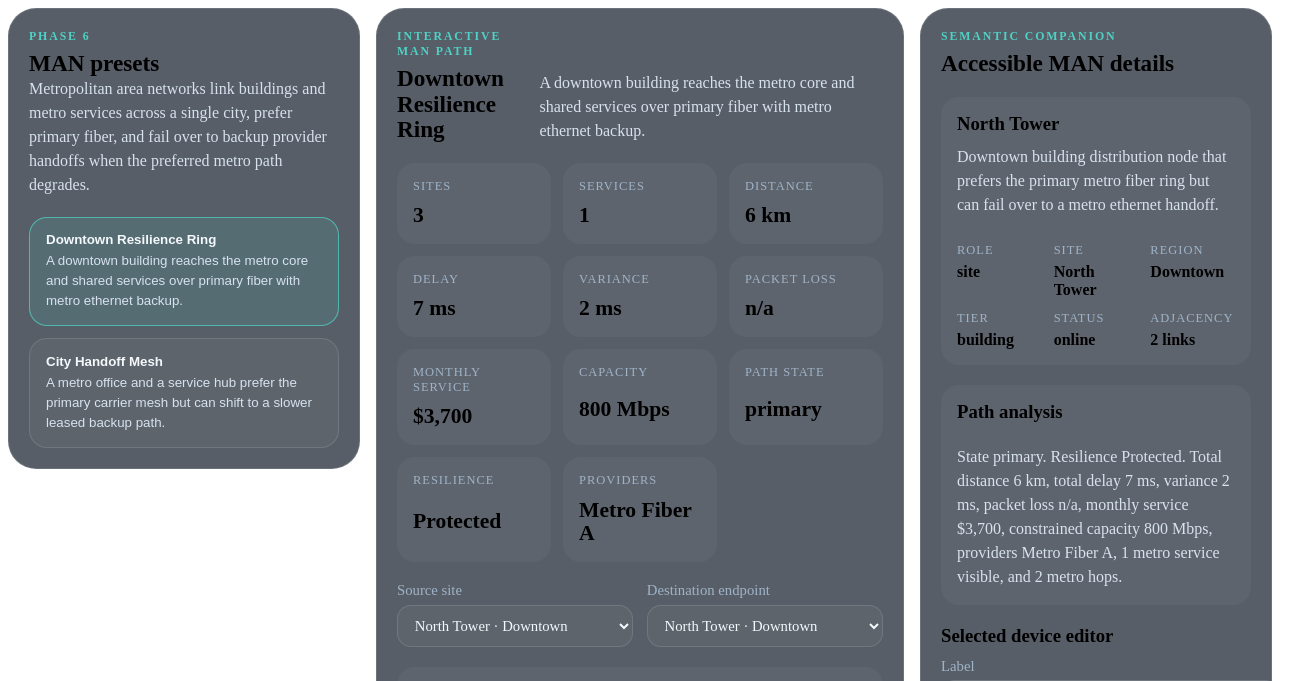
Test: ManPageComponent › focuses the selected destination endpoint in the MAN details panel
The image size is (1292, 681).
Select "Metro DC · Central Loop" in the dropdown labelled "Destination endpoint": (765, 626) [647,605,883,647]
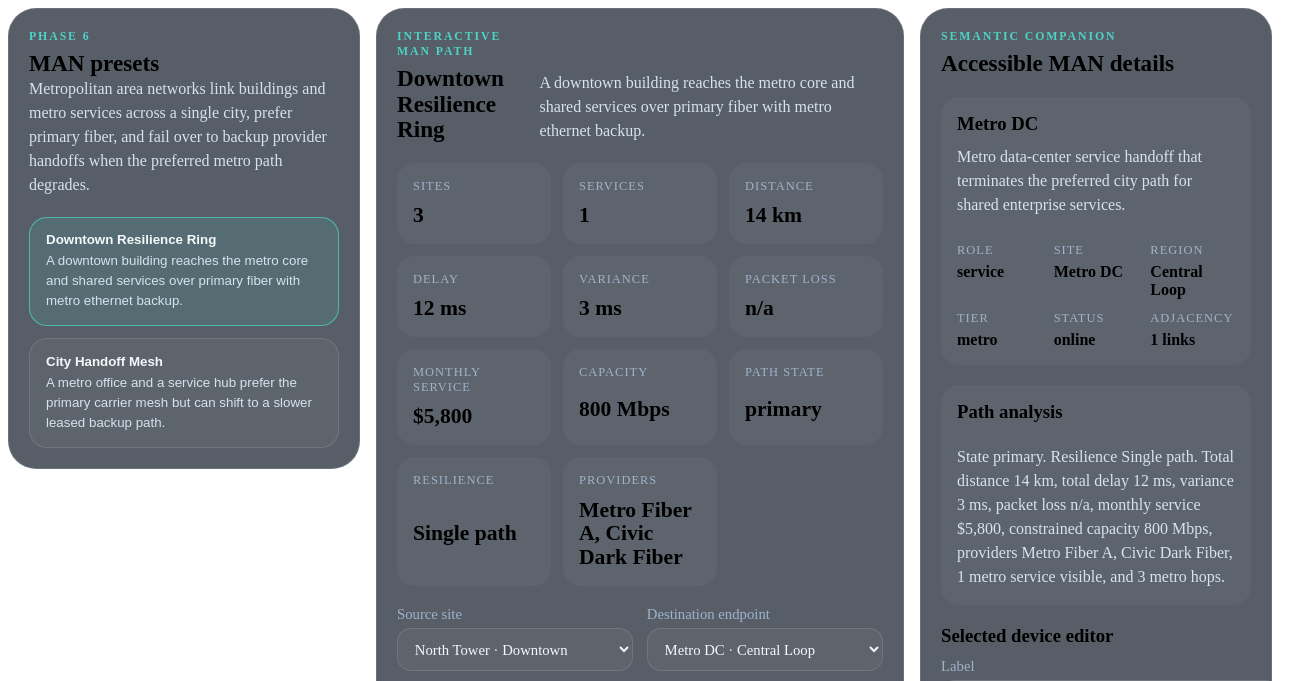
Check: the text "Metro DC" is shown, box [957,113,1038,134]
Check: the text "Metro data-center service handoff that terminates the preferred city path for shared enterprise services." is shown, box [957,148,1202,213]
